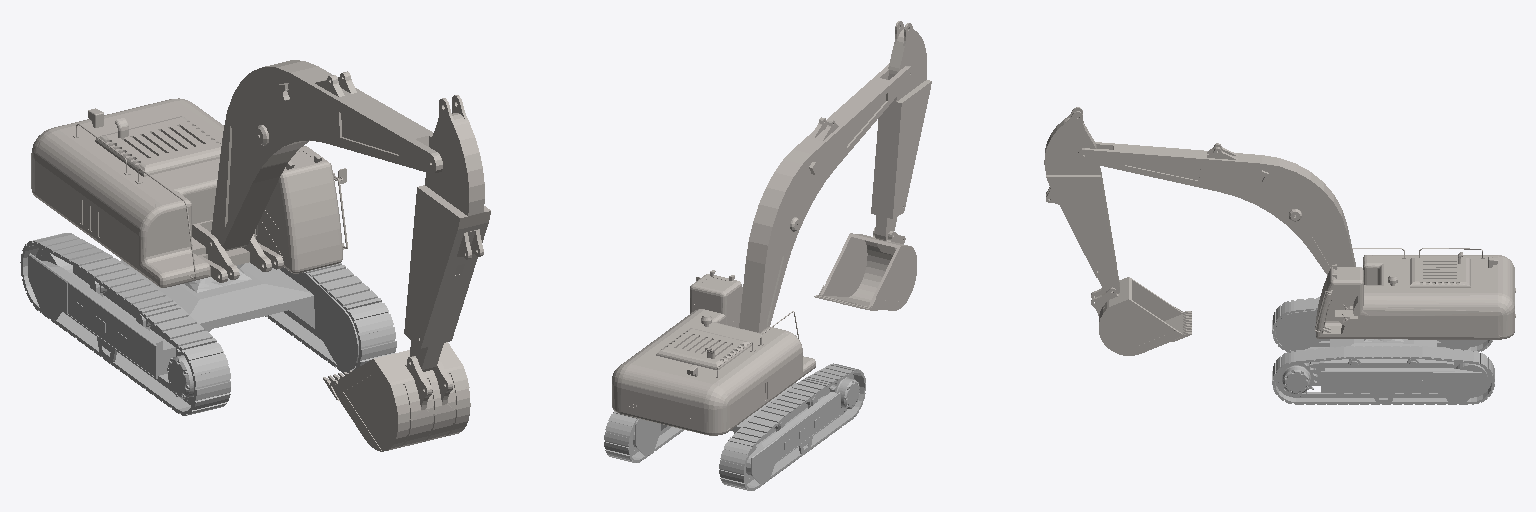
The robot description file, URDF, robot "liche":
<?xml version="1.0" encoding="utf-8"?>
<!-- This URDF was automatically created by SolidWorks to URDF Exporter! Originally created by [author] ([email redacted]) 
     Commit Version: 1.6.0-4-g7f85cfe  Build Version: 1.6.7995.38578
     For more information, please see http://wiki.ros.org/sw_urdf_exporter -->
<robot
  name="liche">
  <link
    name="base">
    <inertial>
      <origin
        xyz="0.48607 0.28055 -0.89353"
        rpy="0 0 0" />
      <mass
        value="3402.9" />
      <inertia
        ixx="712.91"
        ixy="0.14821"
        ixz="-0.74318"
        iyy="1260.9"
        iyz="-4.305"
        izz="647.52" />
    </inertial>
    <visual>
      <origin
        xyz="0 0 0"
        rpy="0 0 0" />
      <geometry>
        <mesh
          filename="package://liche/meshes/base.STL" />
      </geometry>
      <material
        name="">
        <color
          rgba="0.75294 0.75294 0.75294 1" />
      </material>
    </visual>
    <collision>
      <origin
        xyz="0 0 0"
        rpy="0 0 0" />
      <geometry>
        <mesh
          filename="package://liche/meshes/base.STL" />
      </geometry>
    </collision>
  </link>
  <link
    name="body">
    <inertial>
      <origin
        xyz="-0.205228553344964 0.11124837629825 0.279866206357492"
        rpy="0 0 0" />
      <mass
        value="476.234267653959" />
      <inertia
        ixx="62.2587499845095"
        ixy="-29.3774781868211"
        ixz="16.2589026535527"
        iyy="132.265489829395"
        iyz="4.06719084609397"
        izz="160.235513881902" />
    </inertial>
    <visual>
      <origin
        xyz="0 0 0"
        rpy="0 0 0" />
      <geometry>
        <mesh
          filename="package://liche/meshes/body.STL" />
      </geometry>
      <material
        name="">
        <color
          rgba="0.776470588235294 0.756862745098039 0.737254901960784 1" />
      </material>
    </visual>
    <collision>
      <origin
        xyz="0 0 0"
        rpy="0 0 0" />
      <geometry>
        <mesh
          filename="package://liche/meshes/body.STL" />
      </geometry>
    </collision>
  </link>
  <joint
    name="base_body"
    type="revolute">
    <origin
      xyz="0.48559 0.87696 0.60176"
      rpy="0 -0.0023651 -1.5708" />
    <parent
      link="base" />
    <child
      link="body" />
    <axis
      xyz="0 0 1" />
    <limit
      lower="-3"
      upper="3"
      effort="0"
      velocity="1" />
  </joint>
  <link
    name="boom">
    <inertial>
      <origin
        xyz="0.904017835038203 1.09623549961981 5.20499748007941E-06"
        rpy="0 0 0" />
      <mass
        value="1699.33690863447" />
      <inertia
        ixx="292.823197209436"
        ixy="-374.695834071447"
        ixz="0.002723550893441"
        iyy="779.871145296399"
        iyz="0.00108560652285573"
        izz="1061.59664620019" />
    </inertial>
    <visual>
      <origin
        xyz="0 0 0"
        rpy="0 0 0" />
      <geometry>
        <mesh
          filename="package://liche/meshes/boom.STL" />
      </geometry>
      <material
        name="">
        <color
          rgba="0.776470588235294 0.756862745098039 0.737254901960784 1" />
      </material>
    </visual>
    <collision>
      <origin
        xyz="0 0 0"
        rpy="0 0 0" />
      <geometry>
        <mesh
          filename="package://liche/meshes/boom.STL" />
      </geometry>
    </collision>
  </link>
  <joint
    name="body_boom"
    type="revolute">
    <origin
      xyz="0.27302 -0.0033226 0.1846"
      rpy="1.5708 0 0" />
    <parent
      link="body" />
    <child
      link="boom" />
    <axis
      xyz="0 0 -1" />
    <limit
      lower="-0.45"
      upper="1"
      effort="0"
      velocity="1" />
  </joint>
  <link
    name="arm">
    <inertial>
      <origin
        xyz="-0.00094534 -0.54866 -0.0057659"
        rpy="0 0 0" />
      <mass
        value="947.29" />
      <inertia
        ixx="178.77"
        ixy="-44.737"
        ixz="5.2245E-14"
        iyy="29.44"
        iyz="1.1731E-13"
        izz="201.93" />
    </inertial>
    <visual>
      <origin
        xyz="0 0 0"
        rpy="0 0 0" />
      <geometry>
        <mesh
          filename="package://liche/meshes/arm.STL" />
      </geometry>
      <material
        name="">
        <color
          rgba="0.77647 0.75686 0.73725 1" />
      </material>
    </visual>
    <collision>
      <origin
        xyz="0 0 0"
        rpy="0 0 0" />
      <geometry>
        <mesh
          filename="package://liche/meshes/arm.STL" />
      </geometry>
    </collision>
  </link>
  <joint
    name="boom_arm"
    type="revolute">
    <origin
      xyz="2.6634 1.6057 0"
      rpy="0 0 -0.0023651" />
    <parent
      link="boom" />
    <child
      link="arm" />
    <axis
      xyz="0 0 1" />
    <limit
      lower="-0.45"
      upper="1"
      effort="0"
      velocity="1" />
  </joint>
  <link
    name="bucket">
    <inertial>
      <origin
        xyz="-0.1543 -0.32302 -0.0052375"
        rpy="0 0 0" />
      <mass
        value="273.21" />
      <inertia
        ixx="18.411"
        ixy="-3.4317"
        ixz="0.0018832"
        iyy="25.26"
        iyz="-0.0027849"
        izz="23.388" />
    </inertial>
    <visual>
      <origin
        xyz="0 0 0"
        rpy="0 0 0" />
      <geometry>
        <mesh
          filename="package://liche/meshes/bucket.STL" />
      </geometry>
      <material
        name="">
        <color
          rgba="0.77647 0.75686 0.73725 1" />
      </material>
    </visual>
    <collision>
      <origin
        xyz="0 0 0"
        rpy="0 0 0" />
      <geometry>
        <mesh
          filename="package://liche/meshes/bucket.STL" />
      </geometry>
    </collision>
  </link>
  <joint
    name="arm_bucket"
    type="revolute">
    <origin
      xyz="-0.27546 -1.4745 0"
      rpy="0 0 0" />
    <parent
      link="arm" />
    <child
      link="bucket" />
    <axis
      xyz="0 0 1" />
    <limit
      lower="-0.7"
      upper="1"
      effort="0"
      velocity="1" />
  </joint>
</robot>

--- What the picture shows (computed from the rendered views, not written in the file) ---
3 views of the same robot in one strip: view 1: azimuth 30°, elevation 25°; view 2: azimuth 150°, elevation 25°; view 3: azimuth 270°, elevation 25° (orthographic).
Robot: liche — 5 links, 4 joints (4 revolute); root link base; default pose: all joints at 0.
Visible links, largest first — view 1: body, base, boom, arm, bucket; view 2: body, base, boom, arm, bucket; view 3: body, base, boom, arm, bucket.
Boxes of the visible links, x1,y1,x2,y2 form: body: (31,98,347,287); base: (20,233,396,415); boom: (211,60,442,250); arm: (404,95,490,371); bucket: (323,342,470,451); body: (612,270,815,435); base: (604,363,865,490); boom: (739,64,913,332); arm: (871,21,931,240); bucket: (814,228,916,310); body: (1315,248,1515,339); base: (1272,297,1494,404); boom: (1078,142,1355,275); arm: (1044,107,1119,293); bucket: (1091,277,1191,355).
Bounding box of the posed robot: 1.46 × 4.61 × 2.85 m (x, y, z).
Meshes: 5 distinct files referenced, 5 mesh visuals loaded (5 binary STL).